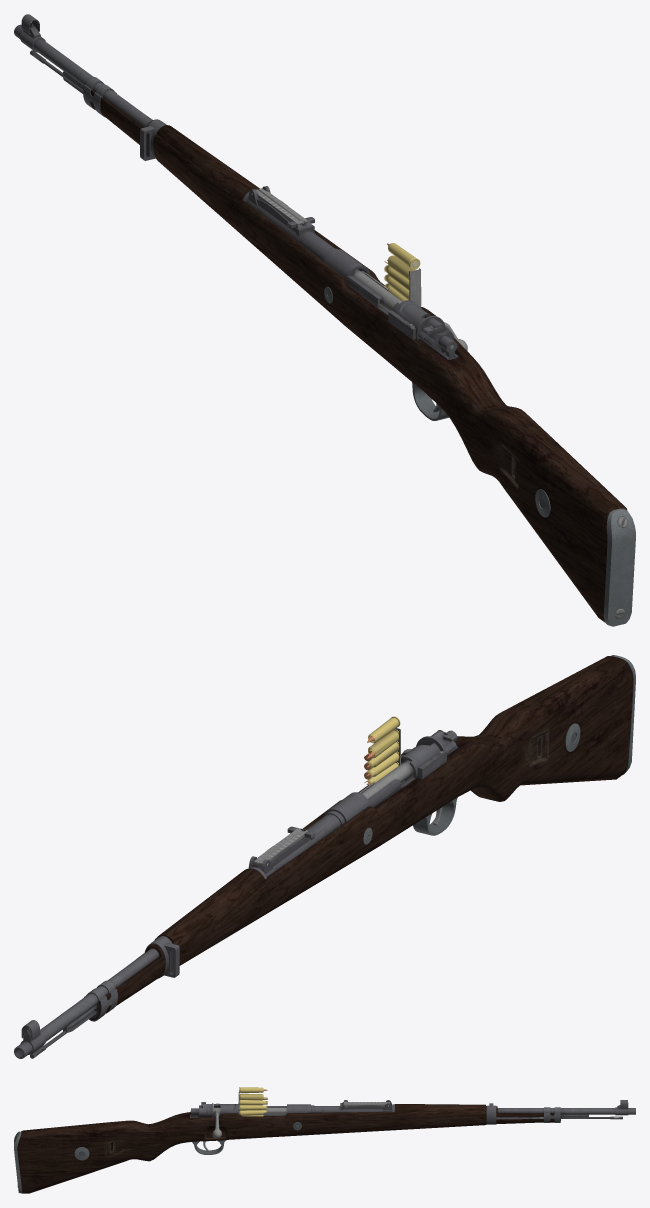
The model's file is weapon_kar98k.glb.
3 views of the same model, one above another, from view 1: azimuth 30°, elevation 25°; view 2: azimuth 150°, elevation 25°; view 3: azimuth 270°, elevation 25° (orthographic). The views are drawn at different scales.
Visible parts, largest first — view 1: Receiver, FeedRound; view 2: Receiver, FeedRound; view 3: Receiver, FeedRound.
Boxes of the visible parts, x1,y1,x2,y2 form: Receiver: (14,14,635,626); FeedRound: (384,243,421,306); Receiver: (14,655,635,1058); FeedRound: (364,716,401,784); Receiver: (14,1100,635,1193); FeedRound: (238,1087,267,1116).
Size of the model in its own units: 0.0607 by 0.2 by 1.05.
1 material, 1 textured.
